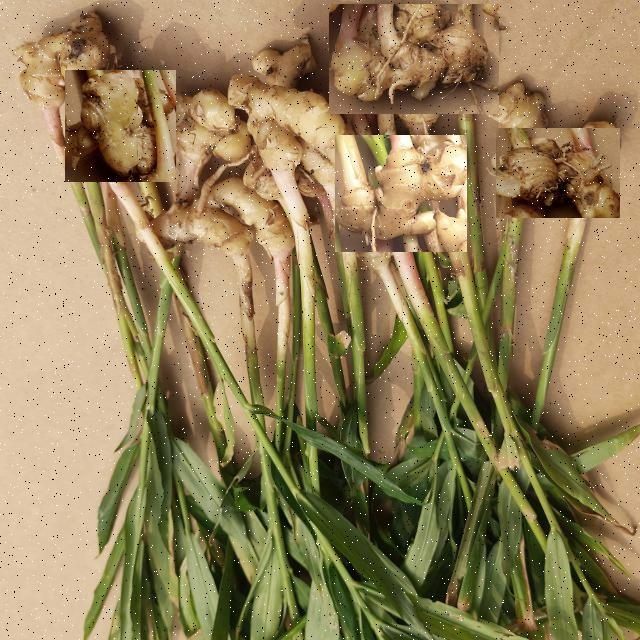ginger: (329, 4, 499, 114), (335, 135, 467, 252), (65, 70, 176, 182), (496, 128, 620, 218)
